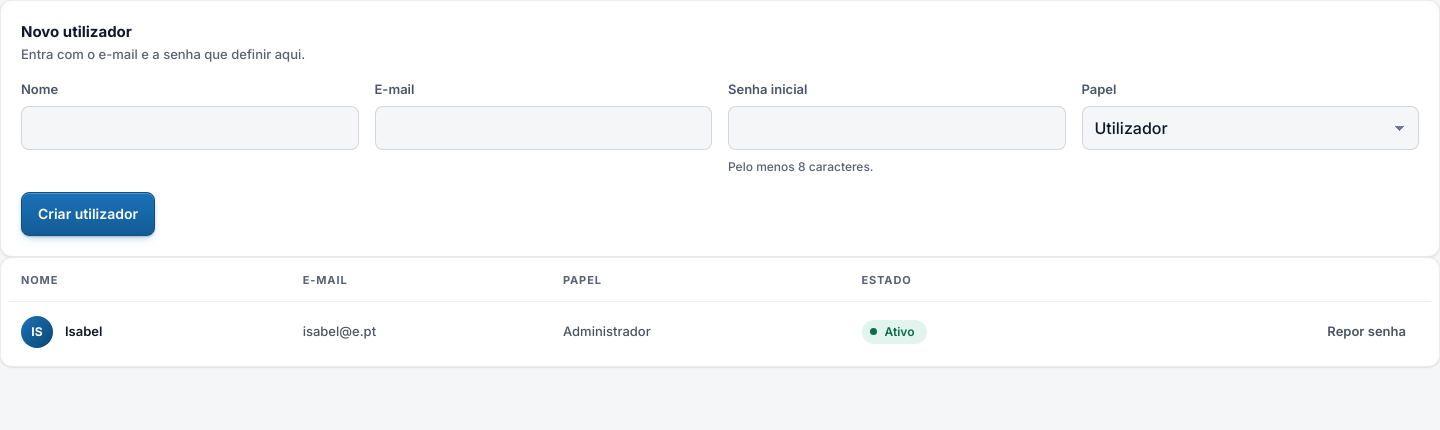
it: UsersManager › mostra o erro do servidor (um e-mail repetido)
Type "Rui" into the field labelled "Nome". click: (190, 128)
box: [21,106,358,150]
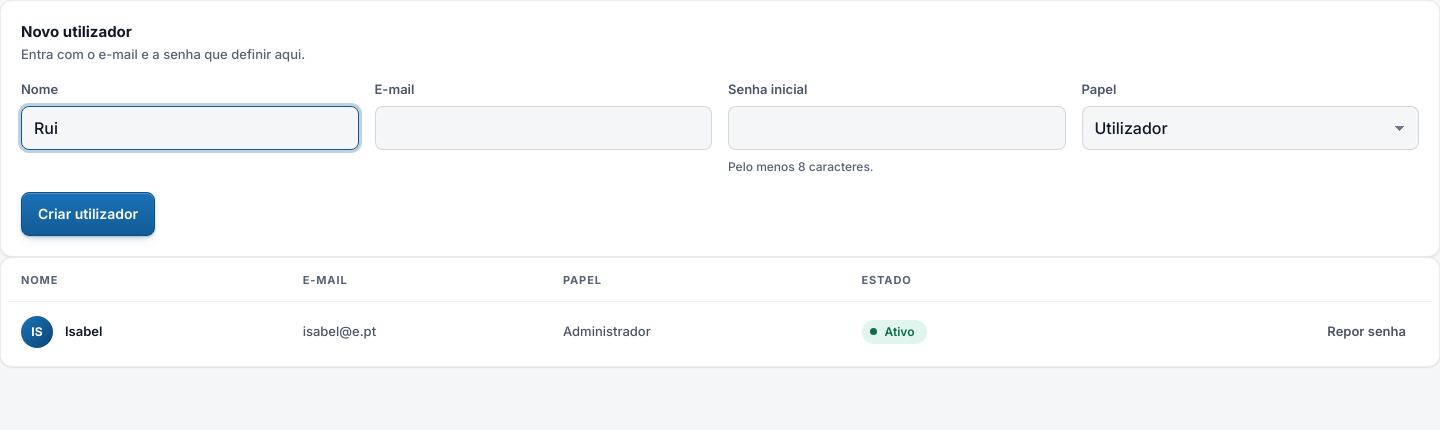
Type "rui@e.pt" into the field labelled "E-mail". click: (543, 128)
box: [374,106,712,150]
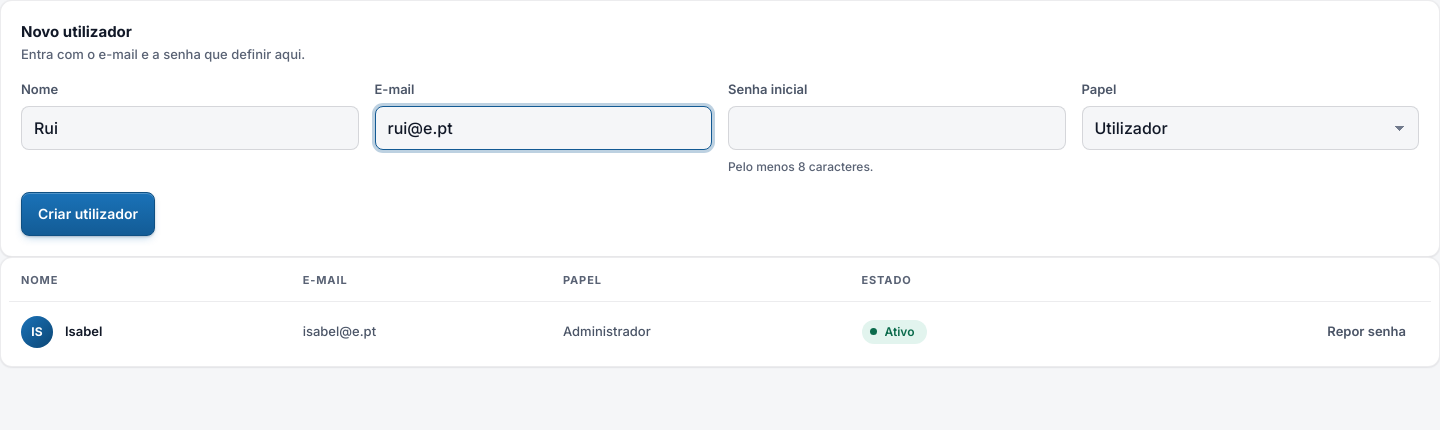
Type "Senha-do-Rui-1" into the password field labelled "Senha inicial". click: (897, 128)
box: [728,106,1066,150]
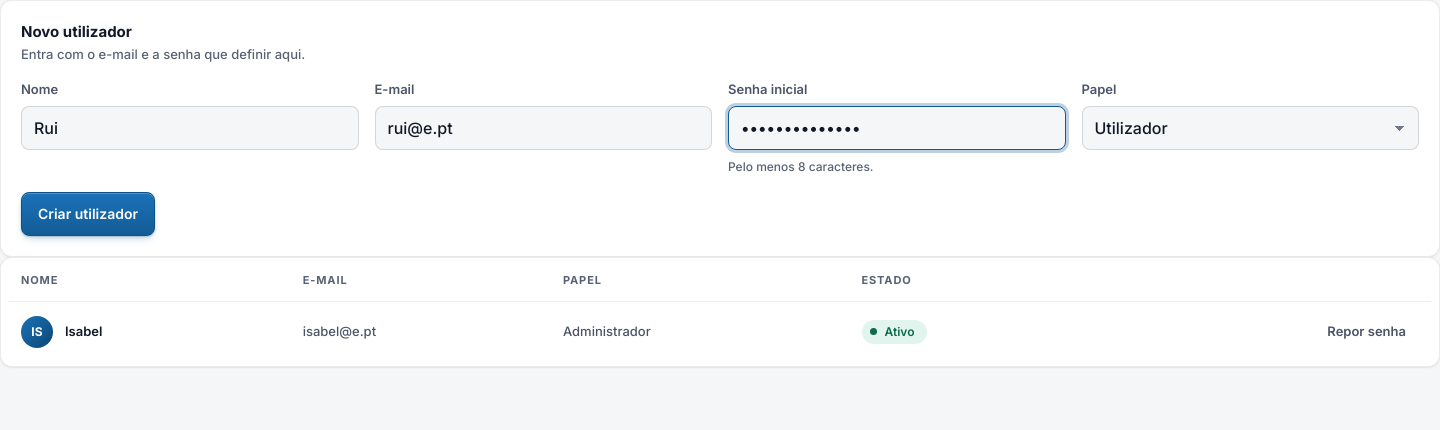
Click the button "Criar utilizador". click: (88, 214)
box: [21,192,155,236]
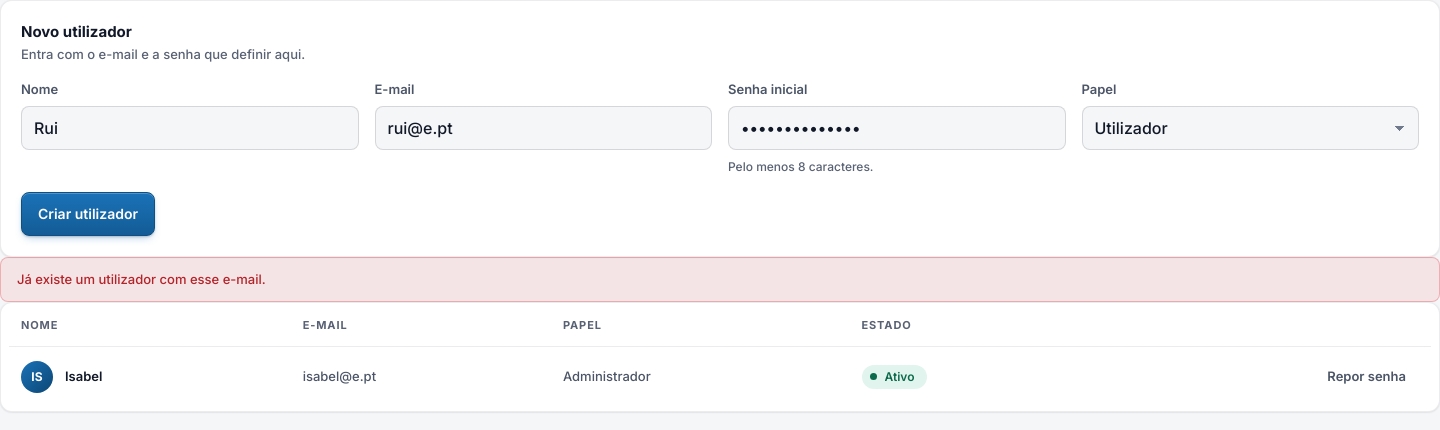
Expected: the message shows "Já existe um utilizador", [17,271,266,287]
